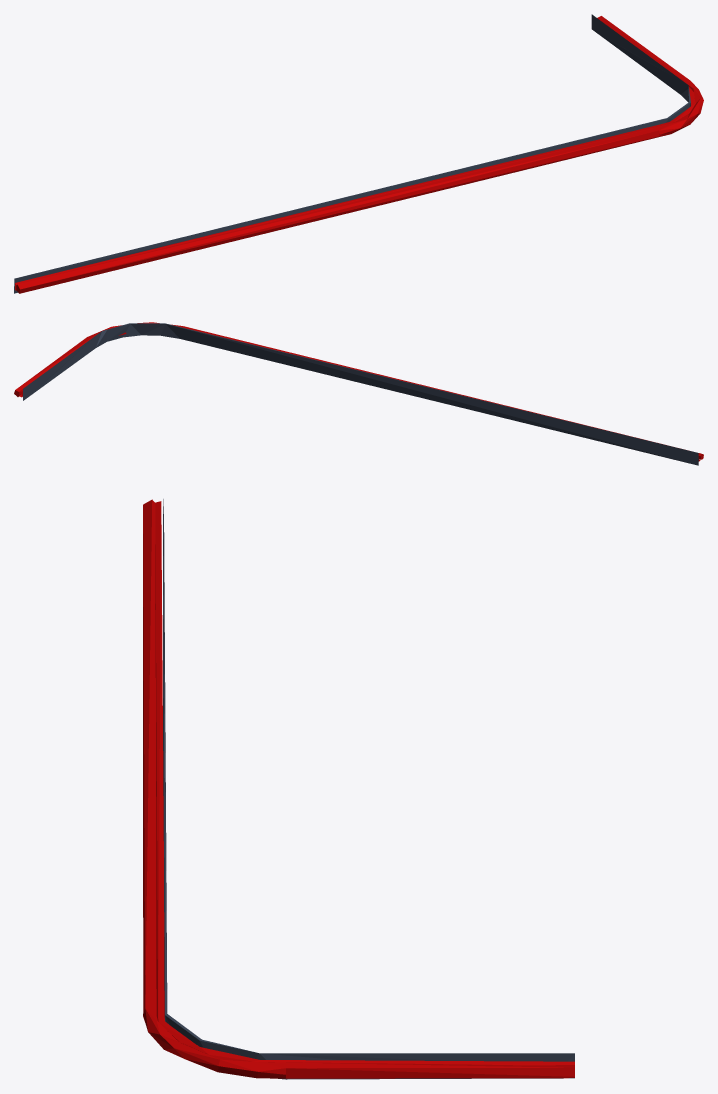
Rendered from module_bumper.dae.
The picture shows the model from 3 angles, top to bottom: view 1: azimuth 30°, elevation 25°; view 2: azimuth 150°, elevation 25°; view 3: azimuth 270°, elevation 25°; orthographic projection. The views are drawn at different scales.
Parts seen in each view (by area): view 1: right_bumper_link; view 2: right_bumper_link; view 3: right_bumper_link.
Part boxes in pixels (box(x1,y1,x2,y2)): right_bumper_link: box(14, 14, 703, 293); right_bumper_link: box(14, 322, 703, 465); right_bumper_link: box(143, 499, 574, 1079).
Size of the model in its own units: 2.44 by 0.7845 by 0.05.
